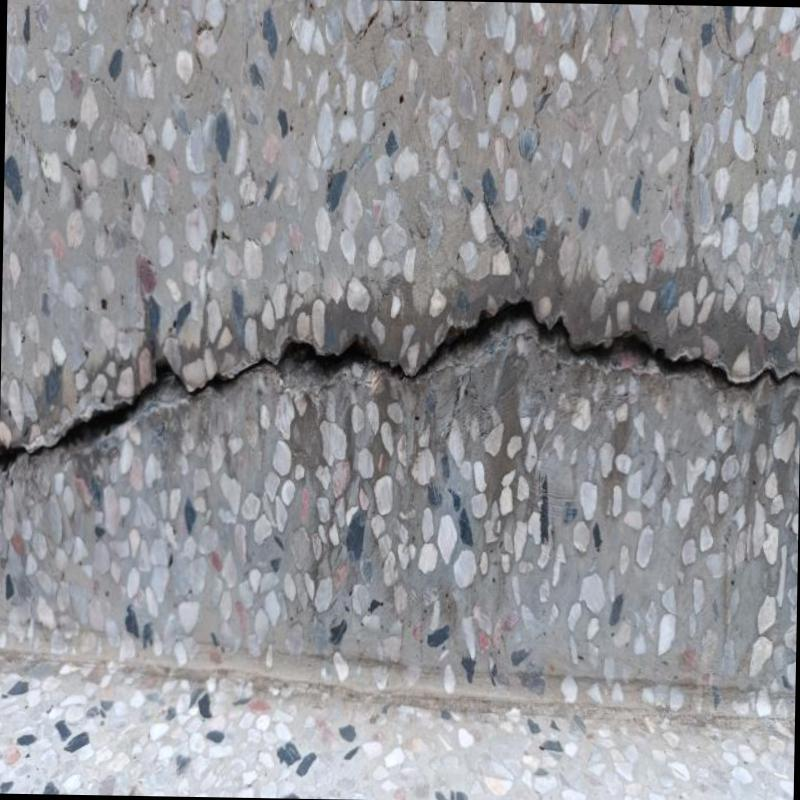crack: (0, 300, 799, 469)
